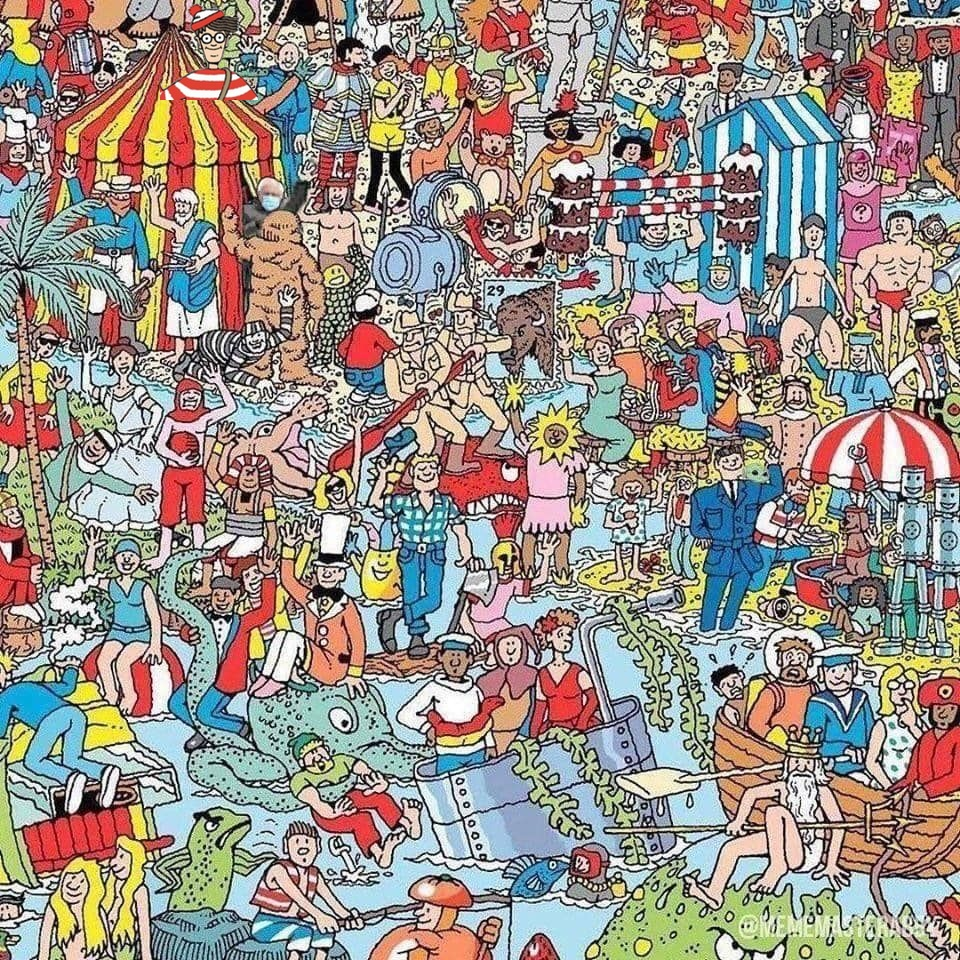waldo: (160, 2, 258, 100)
